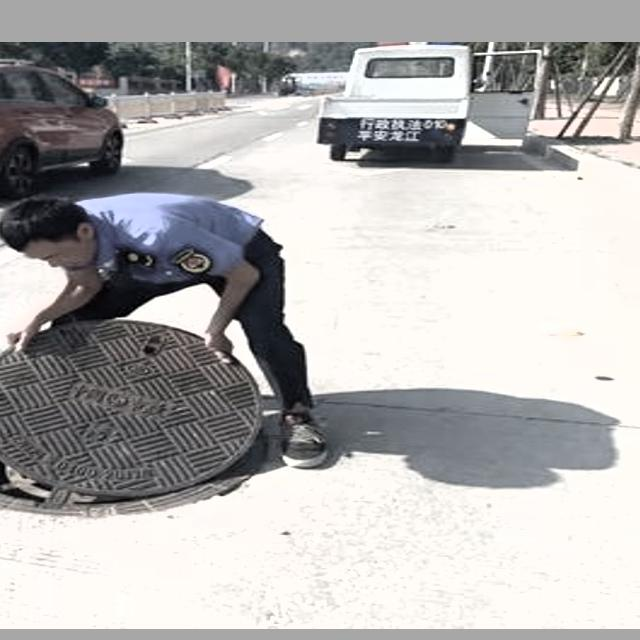uncovered: (0, 312, 280, 520)
